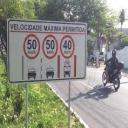speed_limit_40: (60, 34, 75, 58)
speed_limit_50: (22, 34, 40, 59), (42, 35, 58, 58)
